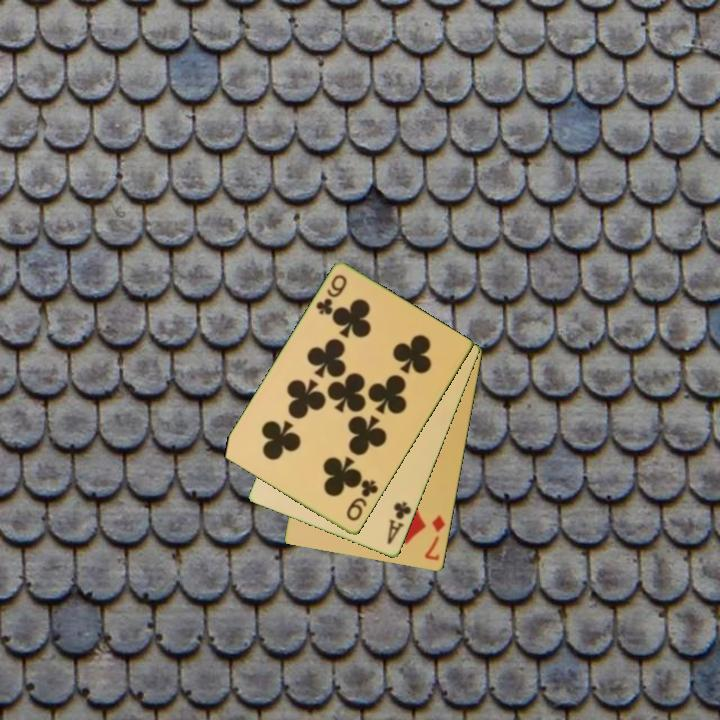7d: (421, 511, 448, 564)
9c: (343, 476, 381, 525), (312, 271, 350, 319)
Ac: (384, 498, 414, 548)
